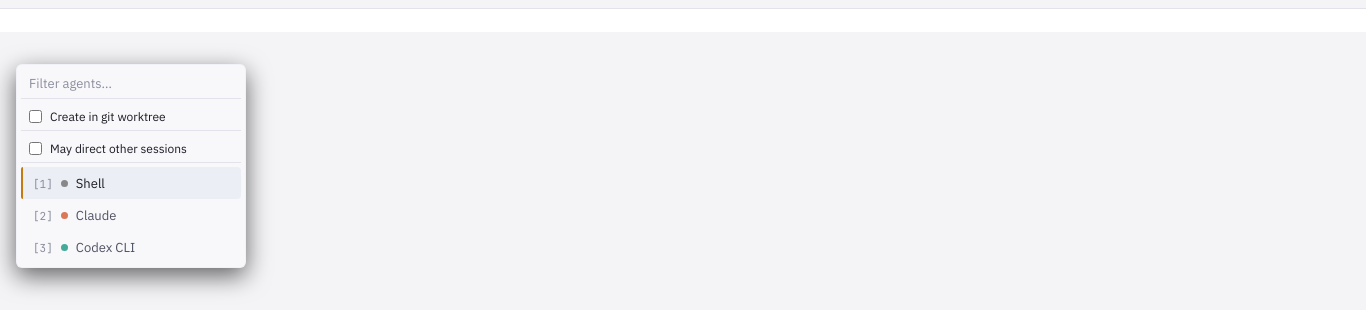
Test: launcher filter box › renders an empty-state row when nothing matches
This screenshot has width=1366, height=310.
In the field with class "launcher-search": {"x": 131, "y": 84} [21,69,241,99], type "zzz"
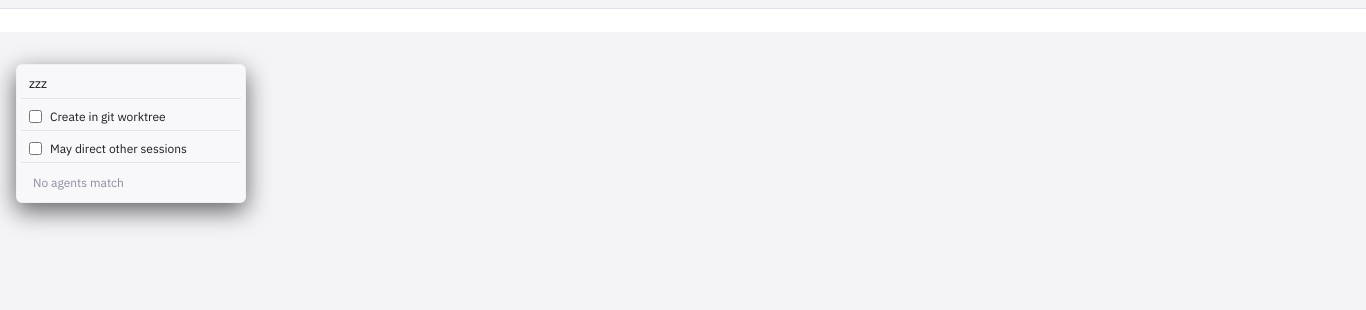
Check: the text with class "launcher-empty" reads "No agents match", box [33,175,124,190]
